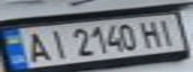0: (118, 20, 142, 52)
1: (87, 24, 109, 55)
2: (69, 25, 93, 57)
4: (103, 21, 127, 53)
A: (18, 29, 54, 64)
H: (136, 18, 166, 48)
I: (42, 27, 72, 61), (154, 16, 184, 45)
